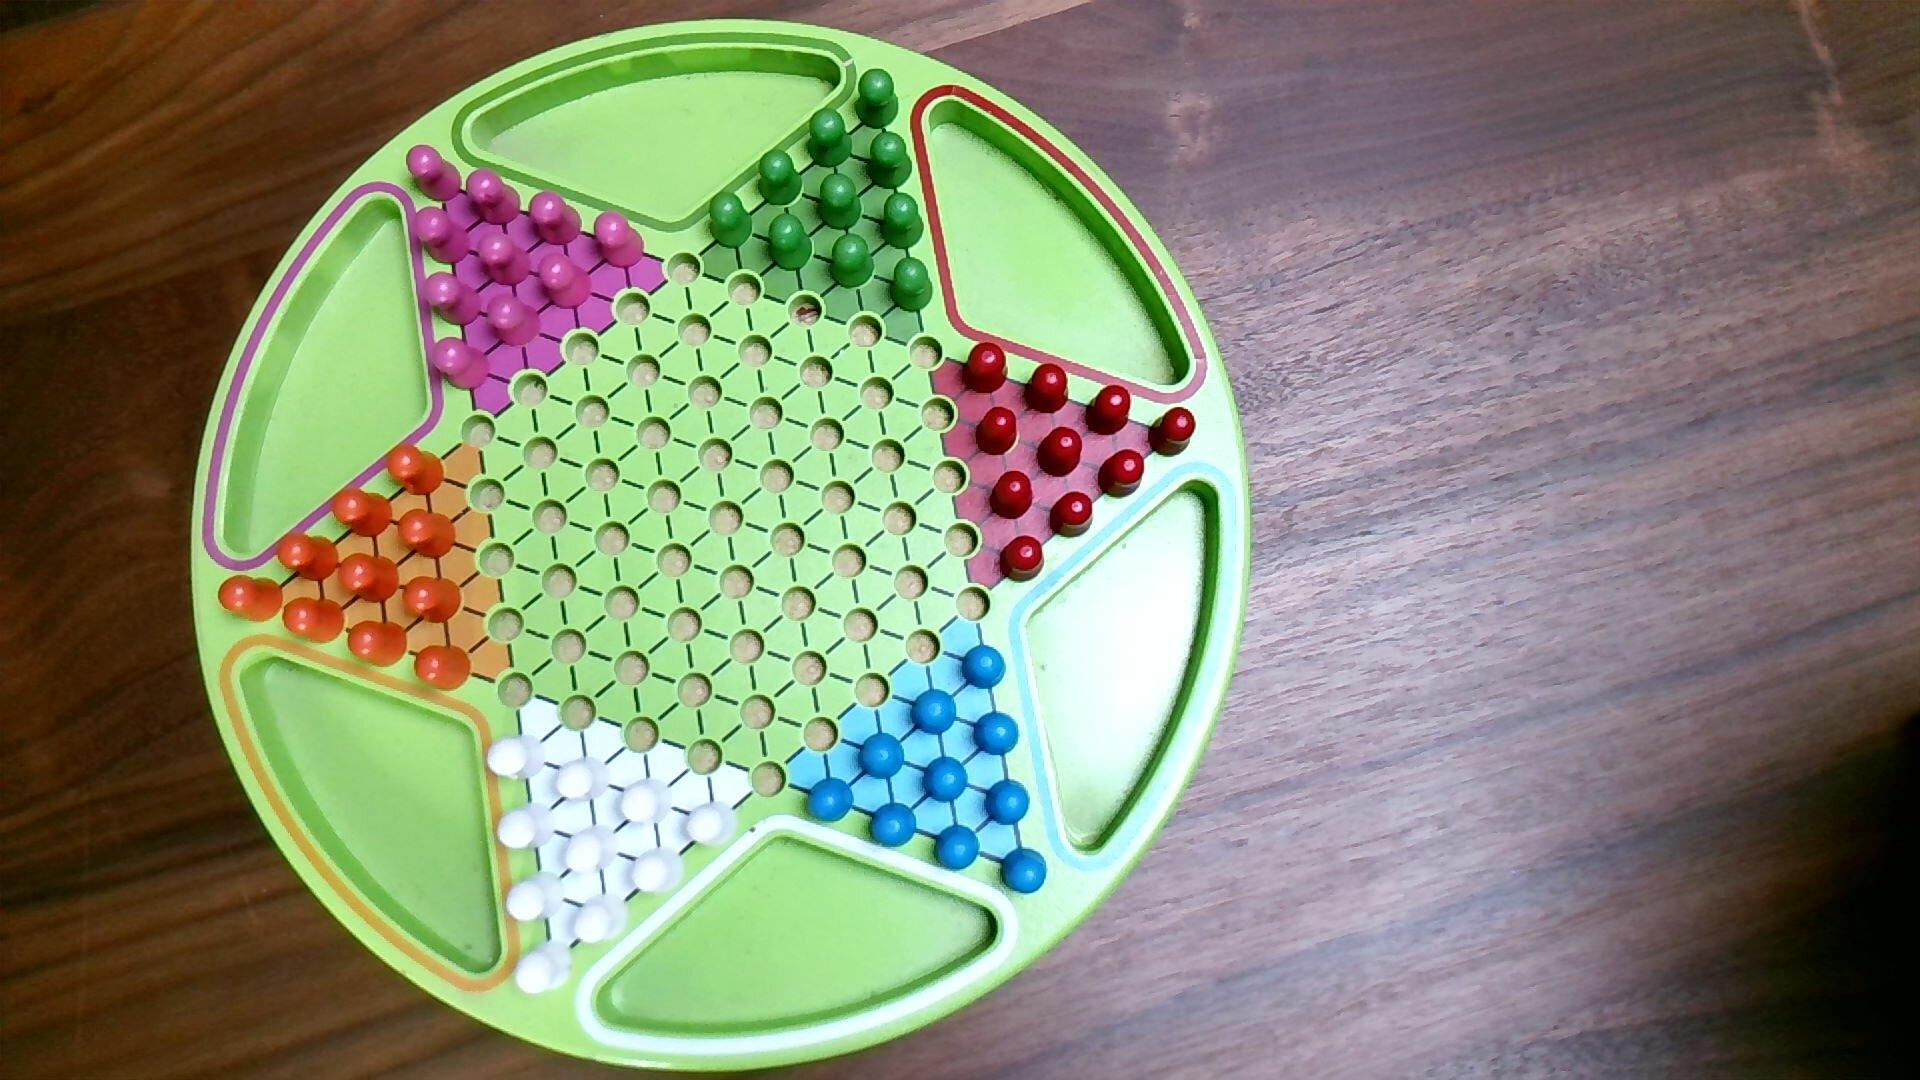B: (803, 775, 857, 825), (856, 731, 907, 782), (866, 800, 919, 851), (932, 822, 982, 874), (998, 847, 1050, 897), (910, 687, 959, 737), (984, 778, 1033, 828), (922, 756, 971, 804), (961, 644, 1009, 692), (973, 711, 1022, 758)
G: (804, 107, 855, 170), (865, 131, 915, 191), (766, 212, 815, 274), (756, 146, 804, 208), (887, 255, 935, 316), (878, 190, 926, 252), (816, 171, 864, 233), (853, 69, 901, 131), (828, 232, 877, 291), (708, 190, 756, 251)
O: (382, 442, 447, 498), (328, 485, 396, 539), (218, 574, 286, 626), (276, 530, 342, 583), (336, 553, 402, 605), (397, 506, 459, 562), (282, 596, 347, 647), (401, 575, 465, 626), (345, 618, 410, 669), (413, 644, 473, 694)
R: (960, 340, 1010, 397), (1034, 426, 1085, 480), (1147, 406, 1199, 459), (1097, 448, 1147, 502), (1084, 384, 1133, 438), (998, 533, 1047, 584), (1023, 363, 1071, 415), (975, 405, 1021, 458), (988, 469, 1034, 522), (1048, 491, 1095, 541)
R2: (411, 204, 473, 268), (429, 335, 493, 392), (421, 272, 485, 328), (405, 144, 464, 204), (535, 251, 593, 313), (465, 167, 524, 227), (592, 208, 647, 270), (476, 229, 534, 287), (527, 189, 584, 248), (487, 293, 545, 349)
W: (513, 939, 575, 998), (504, 870, 567, 926), (572, 891, 632, 945), (496, 800, 558, 852), (487, 732, 549, 783), (563, 823, 621, 876), (618, 777, 676, 829), (554, 754, 615, 804), (629, 847, 688, 897), (684, 800, 740, 851)
